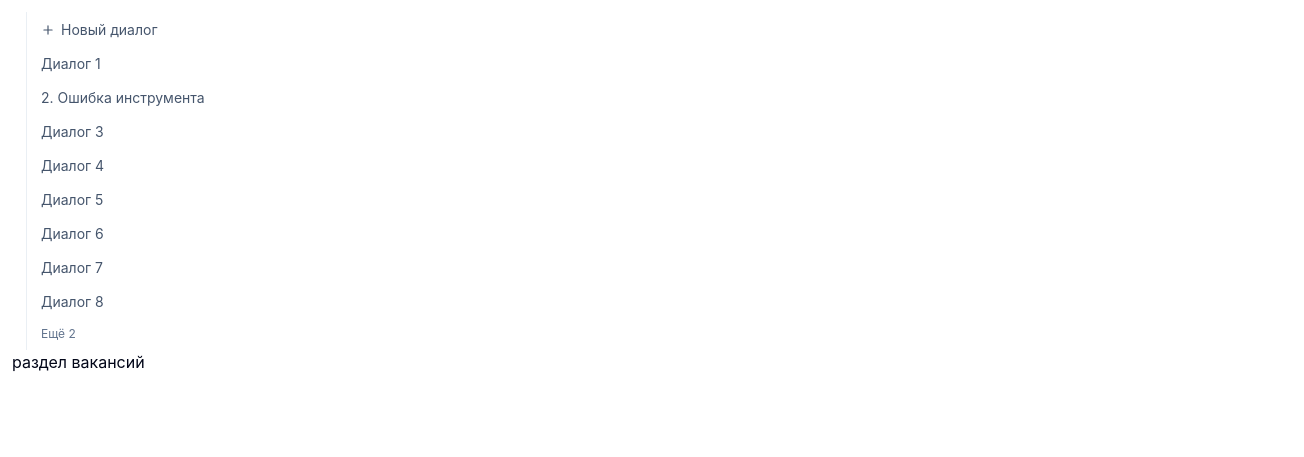
AgentNavSessions — диалоги в основном меню (U-5) › первые 8 диалогов и «Ещё N»; клик из другого раздела ведёт на экран агента
Expected: the button "2. Ошибка инструмента" is shown, [41,88,1284,108]
Expected: the text "Диалог 10" is not shown
Click the button "Ещё 2" at (58, 334), box [33,320,1292,348]
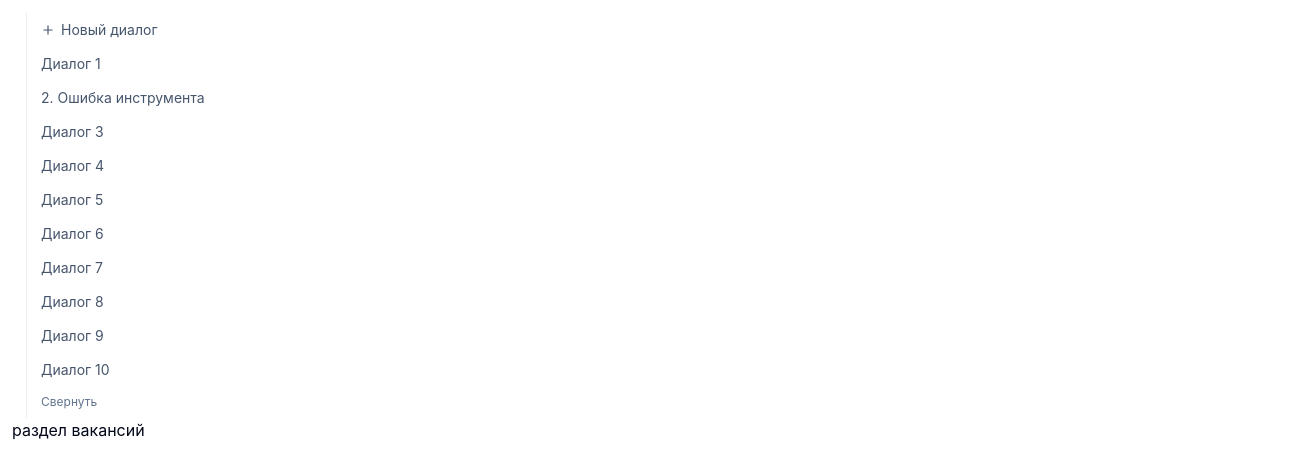
Expected: the button "Диалог 10" is shown, [41,360,1284,380]
Click the button "2. Ошибка инструмента" at (123, 98), box [41,88,1284,108]
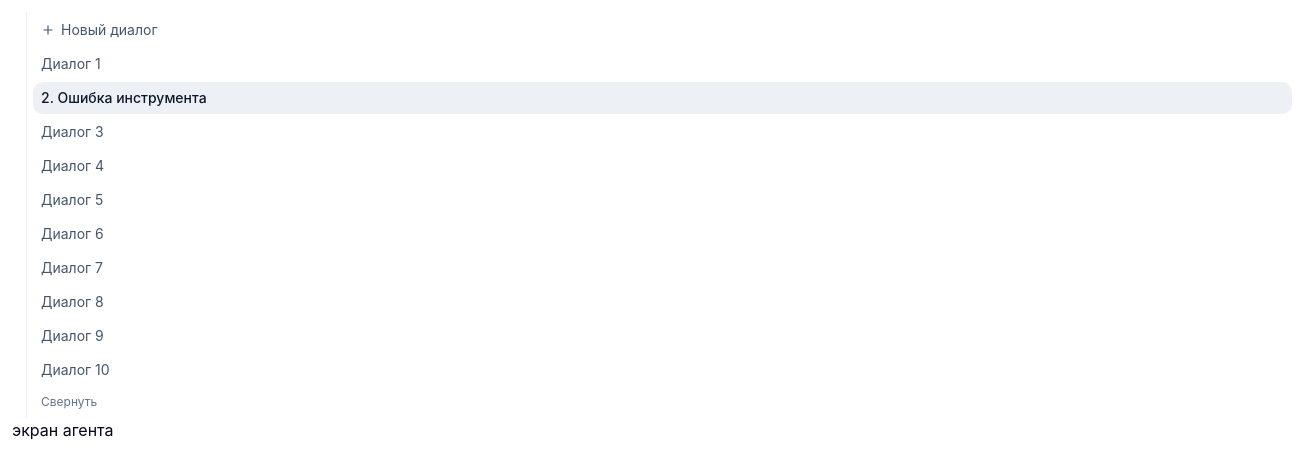
Expected: the text "экран агента" is shown, [12,420,114,440]
